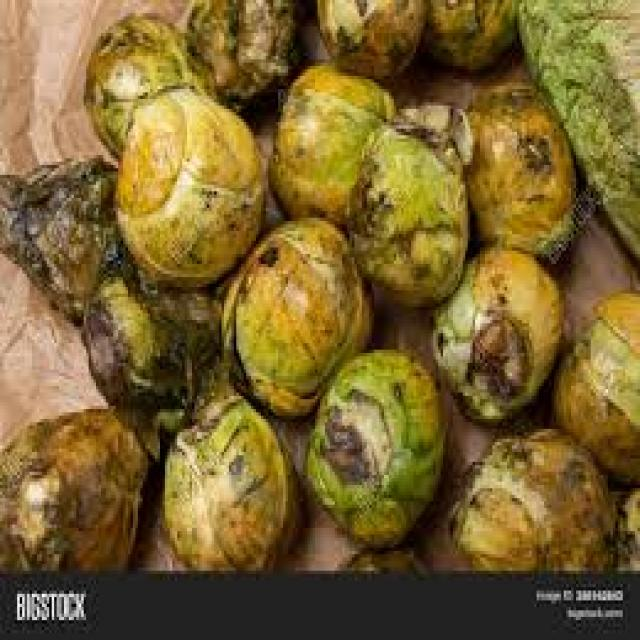organic waste: (514, 0, 638, 267), (111, 82, 266, 284), (219, 211, 369, 416), (160, 360, 298, 568), (298, 343, 440, 544), (0, 399, 162, 570), (350, 102, 475, 304), (450, 419, 608, 567), (81, 254, 224, 416), (428, 241, 559, 412), (456, 79, 574, 267), (0, 142, 123, 317), (79, 10, 214, 155), (268, 59, 394, 214), (549, 287, 637, 482), (180, 0, 298, 96), (312, 0, 423, 76), (418, 0, 514, 66), (330, 538, 426, 570), (616, 475, 638, 564)
